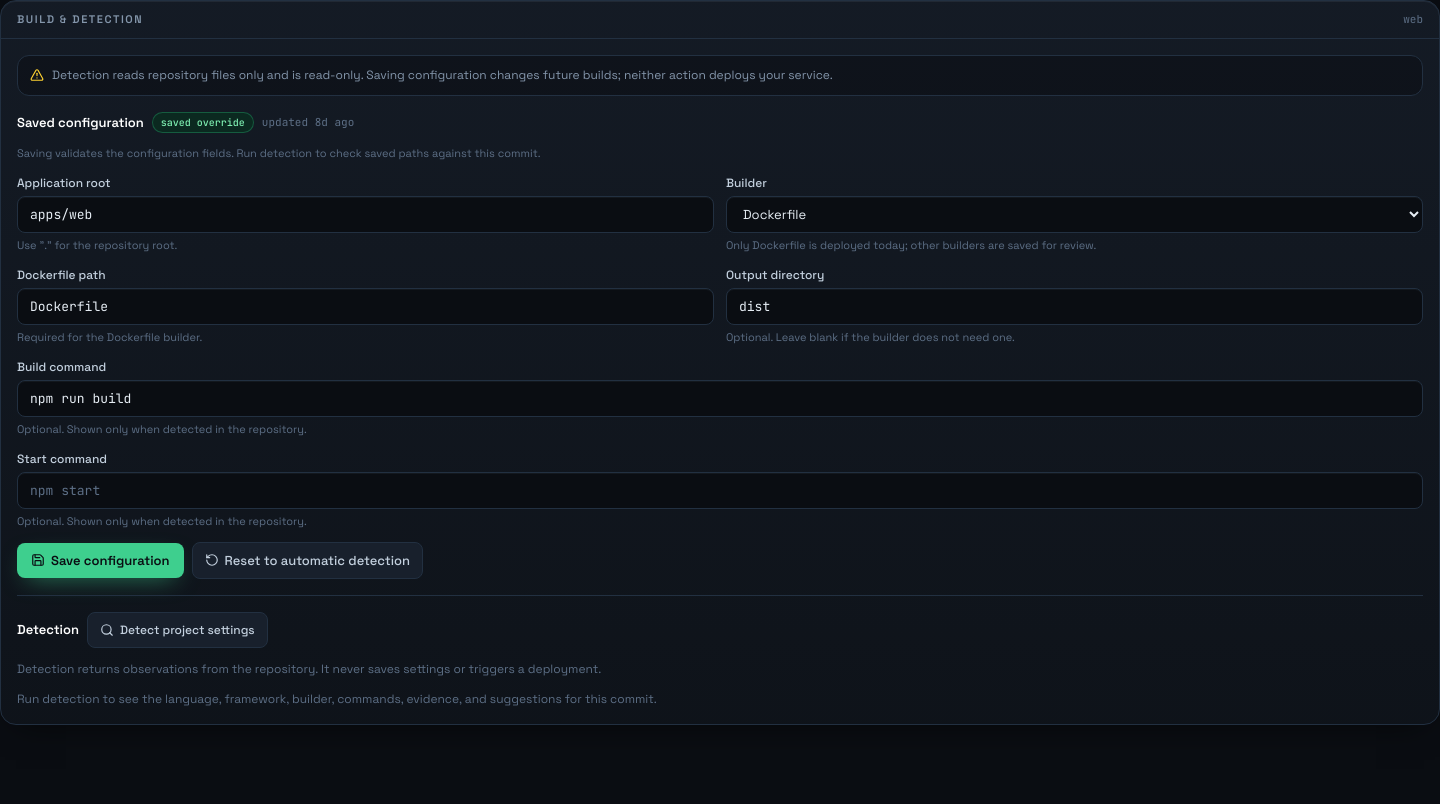
BuildConfigPanel › renders saved configuration issues without changing them
The width and height of the screenshot is (1440, 804).
Expected: the field showing "apps/web" is shown, x1=17 y1=196 x2=714 y2=233
Click the button "Detect project settings" at x=177, y=630, box x1=87 y1=612 x2=268 y2=648
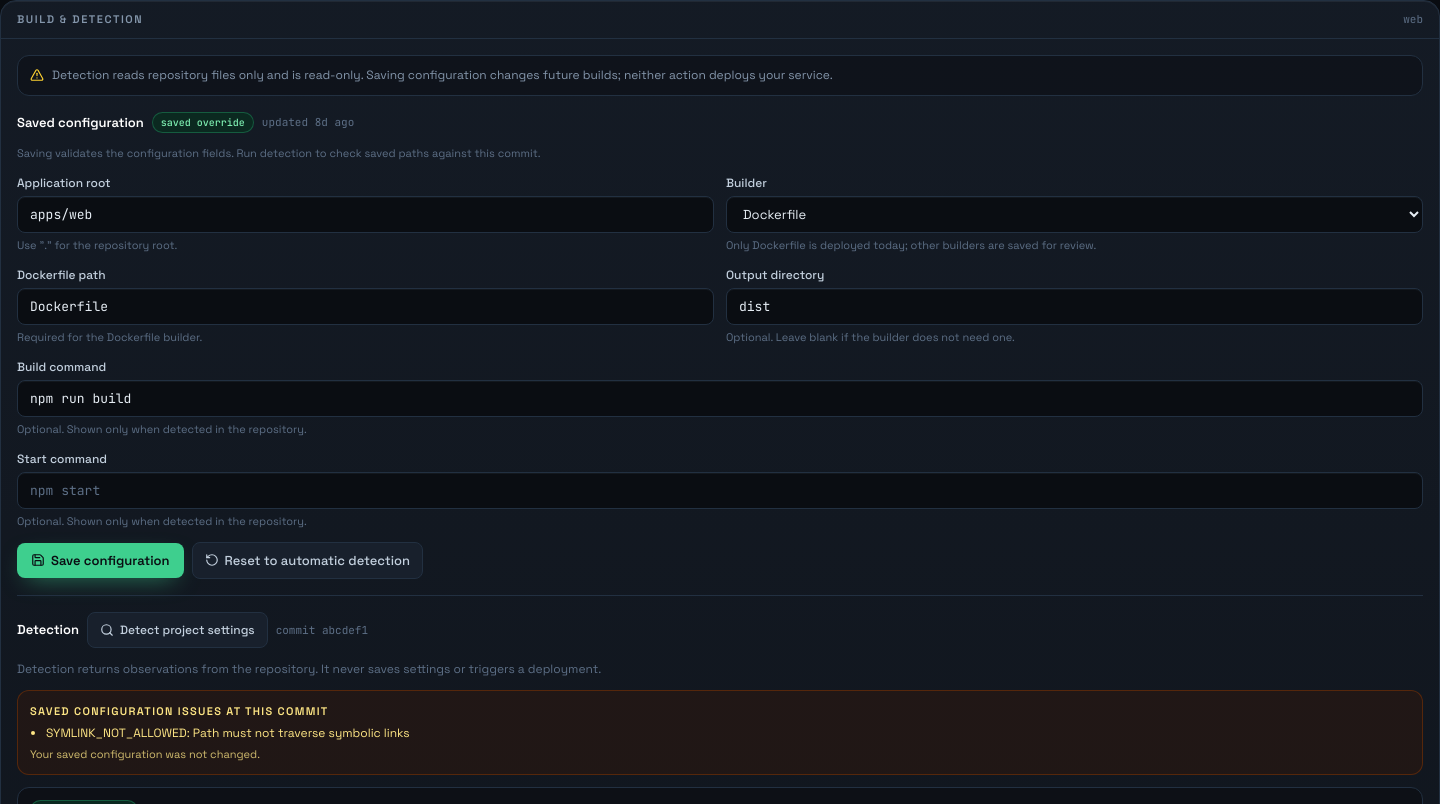
Expected: the field labelled "Application root" holds "apps/web", x1=17 y1=196 x2=714 y2=233
Expected: the heading "Saved configuration issues at this commit" is shown, x1=30 y1=704 x2=329 y2=718
Expected: the list item "SYMLINK_NOT_ALLOWED: Path must not traverse symbolic links" is shown, x1=46 y1=724 x2=410 y2=740
